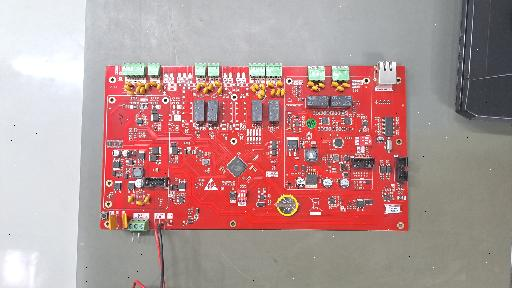var: (108, 214, 118, 230), (121, 212, 128, 229), (135, 200, 145, 206), (124, 85, 133, 91), (217, 86, 223, 95), (200, 82, 208, 88), (128, 195, 134, 203), (144, 195, 150, 203), (144, 83, 150, 91), (125, 81, 133, 87), (267, 82, 275, 88), (208, 83, 213, 92), (150, 81, 157, 87), (276, 81, 283, 87), (157, 83, 163, 90), (342, 82, 349, 88), (307, 81, 314, 87), (254, 82, 259, 90), (257, 92, 262, 100), (260, 89, 265, 97), (127, 90, 135, 95), (336, 86, 344, 91), (270, 88, 275, 96), (196, 83, 201, 91), (317, 83, 325, 88), (331, 82, 339, 87), (276, 88, 280, 97), (135, 87, 140, 94), (140, 87, 145, 94), (261, 83, 266, 90), (214, 81, 221, 86), (312, 86, 319, 91), (203, 87, 208, 94), (251, 86, 256, 93), (281, 88, 285, 96), (137, 82, 144, 86)
